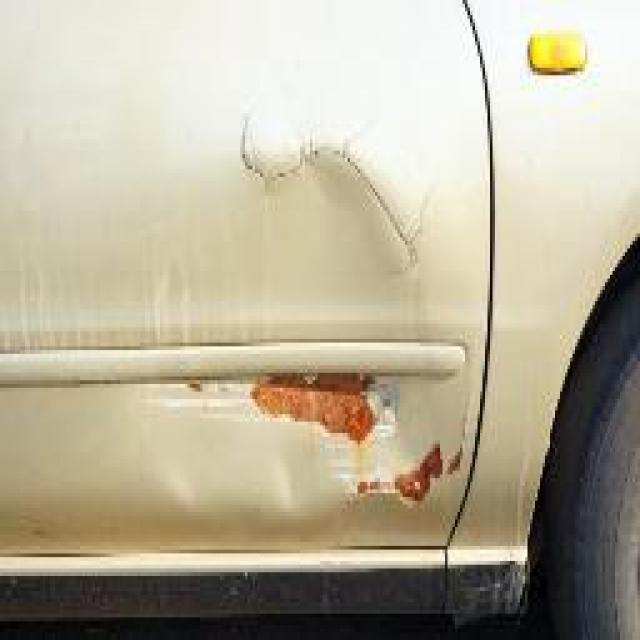Door: (162, 59, 490, 551)
